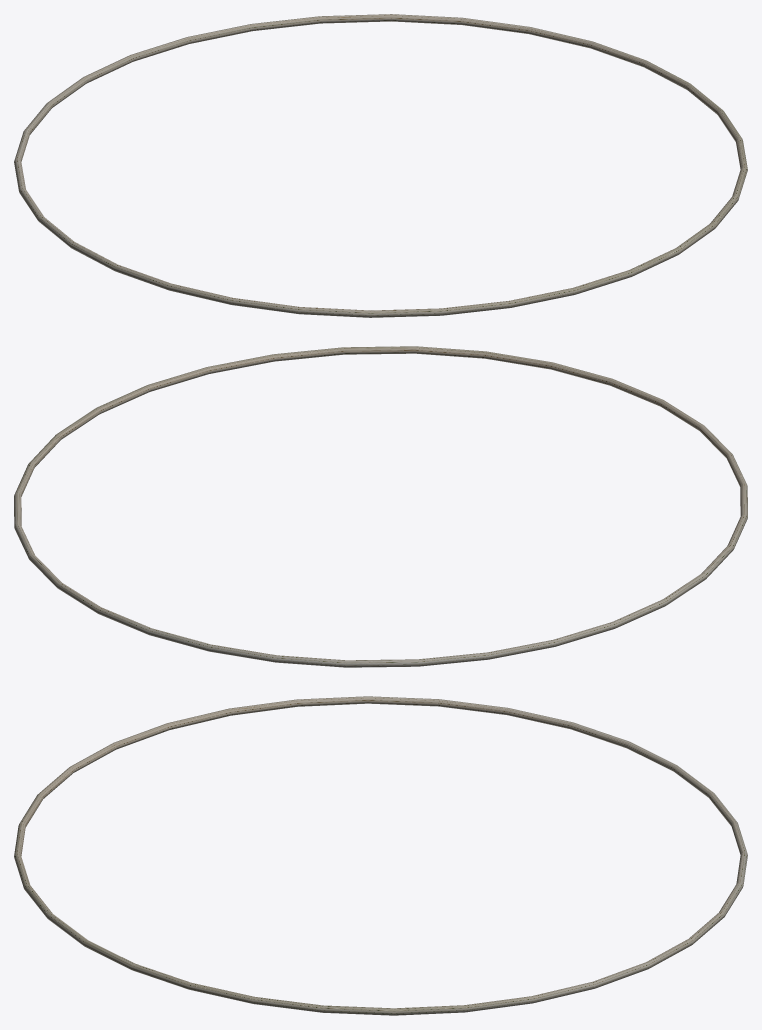
Rendered from sphere.018_lev3.glb.
3 renders of one model, top to bottom at view 1: azimuth 30°, elevation 25°; view 2: azimuth 150°, elevation 25°; view 3: azimuth 270°, elevation 25°, orthographic.
Visible parts, largest first — view 1: sphere.018_lev3; view 2: sphere.018_lev3; view 3: sphere.018_lev3.
Boxes of the visible parts, left/top/right/bottom form: sphere.018_lev3: left=14, top=14, right=747, bottom=317; sphere.018_lev3: left=14, top=346, right=747, bottom=667; sphere.018_lev3: left=14, top=696, right=747, bottom=1015.
Size of the model in its own units: 2.17 by 0.0568 by 2.17.
Materials: 1 (1 with a texture image).
